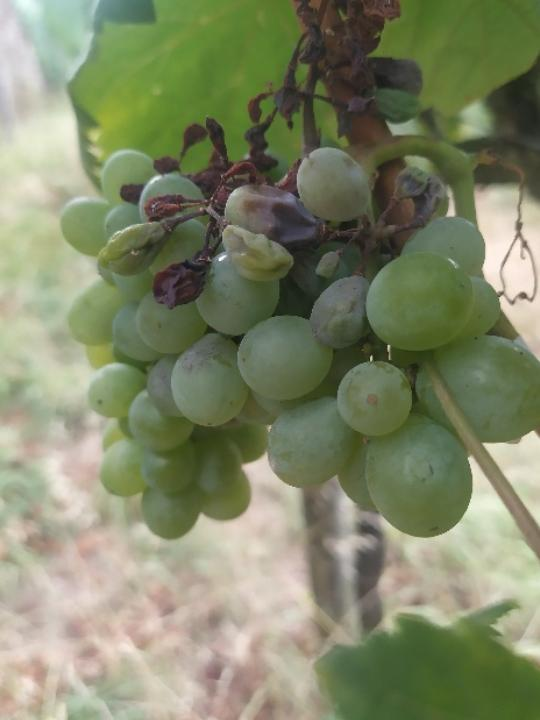grape: (55, 0, 540, 545)
